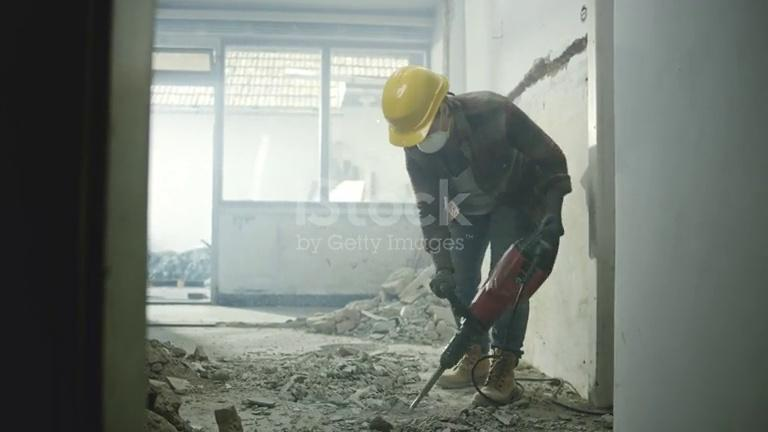helmet: (381, 62, 449, 148)
mask: (415, 127, 450, 154)
person: (380, 62, 573, 405)
